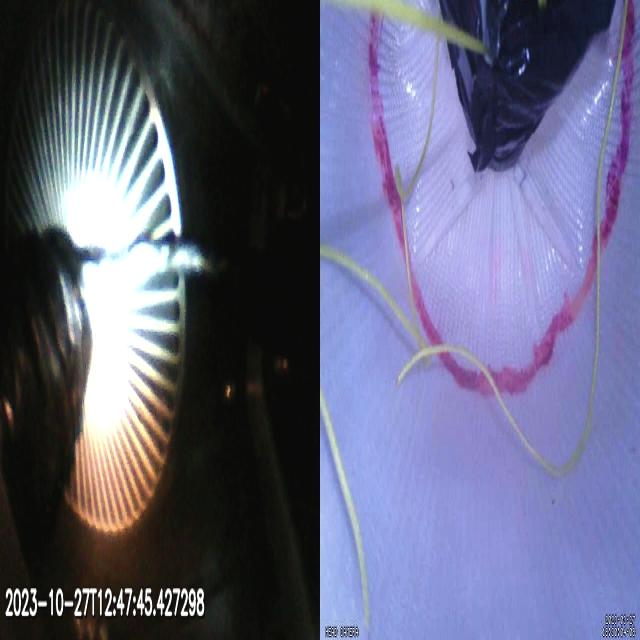red-circle: (368, 0, 636, 398)
